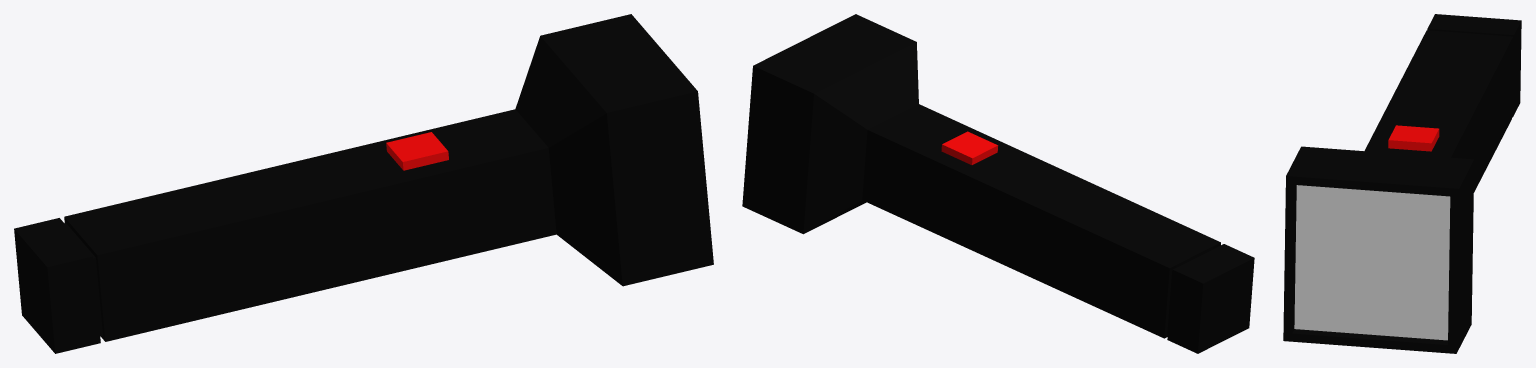
The model's file is flashlight.fbx.
3 renders of one model, left to right at view 1: azimuth 30°, elevation 25°; view 2: azimuth 150°, elevation 25°; view 3: azimuth 270°, elevation 25°, orthographic. The views are drawn at different scales.
Parts seen in each view (by area): view 1: Cube, Cube.001; view 2: Cube, Cube.001; view 3: Cube, Cube.001.
Part boxes in pixels (left/top/right/bottom): Cube: left=64, top=14, right=713, bottom=341; Cube.001: left=14, top=218, right=102, bottom=353; Cube: left=742, top=14, right=1220, bottom=338; Cube.001: left=1167, top=244, right=1254, bottom=353; Cube: left=1283, top=30, right=1513, bottom=353; Cube.001: left=1427, top=14, right=1521, bottom=117.
Size of the model in its own units: 1451 by 421 by 542.
